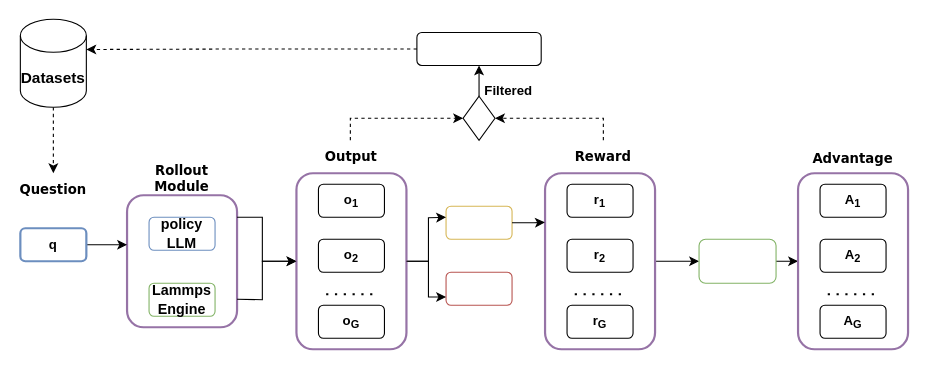
This 927x370 diagram has some shape labels left out. Each missing label, with the centre of its shape:
Group Computation: point (737, 260)
Reference LLM: point (478, 288)
Reward Engine: point (478, 222)
Rewritten Task q′: point (478, 48)
